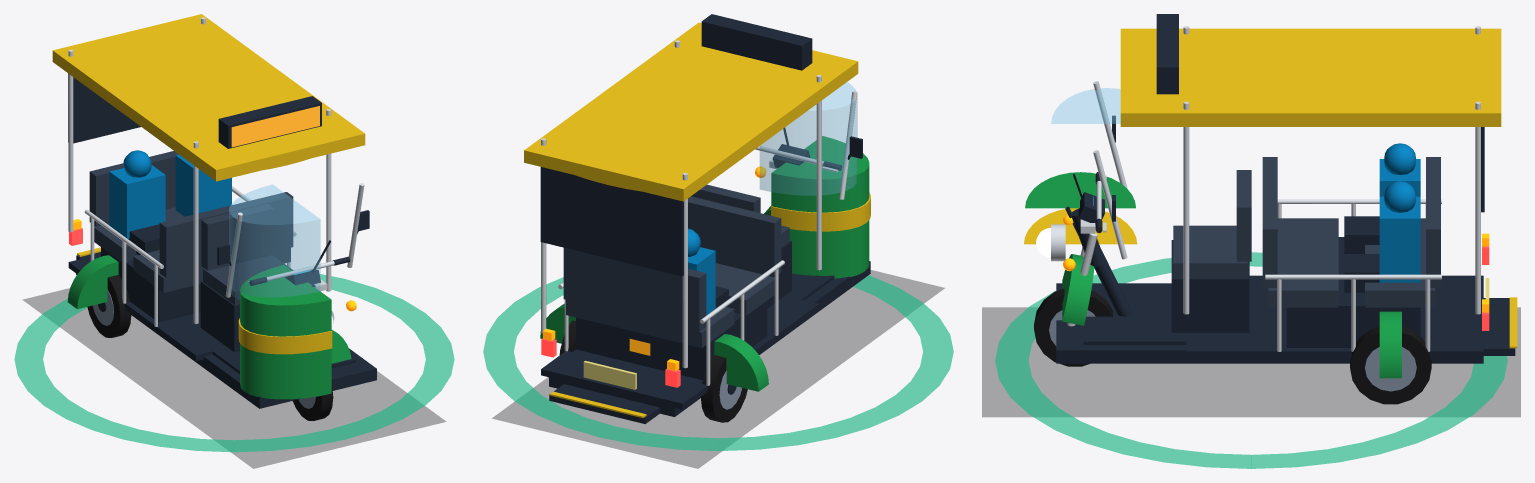
File: e-rickshaw.glb
3 renders of one model, left to right at view 1: azimuth 30°, elevation 25°; view 2: azimuth 150°, elevation 25°; view 3: azimuth 270°, elevation 25°, orthographic. The views are drawn at different scales.
Parts seen in each view (by area): view 1: Roof, Body, object 2, Seats, StatusRing, Passengers, RearLeftWheel, Handlebar, FrontWheel; view 2: Roof, Body, Seats, object 2, StatusRing, RearLeftWheel, Lights, Passengers, Handlebar; view 3: Roof, Body, object 2, Seats, StatusRing, Passengers, RearRightWheel, Handlebar, FrontWheel, Lights.
Boxes of the visible parts, x1=… form: Roof: x1=52, y1=14, x2=365, y2=323; Body: x1=67, y1=183, x2=376, y2=408; object 2: x1=23, y1=288, x2=445, y2=468; Seats: x1=84, y1=151, x2=296, y2=352; StatusRing: x1=14, y1=274, x2=454, y2=452; Passengers: x1=109, y1=150, x2=231, y2=254; RearLeftWheel: x1=87, y1=275, x2=131, y2=337; Handlebar: x1=248, y1=256, x2=351, y2=363; FrontWheel: x1=293, y1=384, x2=333, y2=420; Roof: x1=524, y1=14, x2=858, y2=368; Body: x1=540, y1=82, x2=870, y2=424; Seats: x1=558, y1=184, x2=791, y2=385; object 2: x1=492, y1=270, x2=944, y2=468; StatusRing: x1=483, y1=275, x2=953, y2=451; RearLeftWheel: x1=700, y1=355, x2=747, y2=422; Lights: x1=541, y1=166, x2=766, y2=389; Passengers: x1=688, y1=228, x2=728, y2=315; Handlebar: x1=755, y1=144, x2=842, y2=215; Roof: x1=1120, y1=14, x2=1501, y2=314; Body: x1=1024, y1=81, x2=1517, y2=378; object 2: x1=982, y1=307, x2=1520, y2=416; Seats: x1=1171, y1=157, x2=1441, y2=351; StatusRing: x1=995, y1=252, x2=1507, y2=468; Passengers: x1=1344, y1=143, x2=1420, y2=292; RearRightWheel: x1=1350, y1=326, x2=1431, y2=404; Handlebar: x1=1062, y1=172, x2=1106, y2=326; FrontWheel: x1=1034, y1=288, x2=1112, y2=366; Lights: x1=1036, y1=214, x2=1489, y2=330.
Size of the model in its own units: 2.76 by 1.92 by 2.9.
